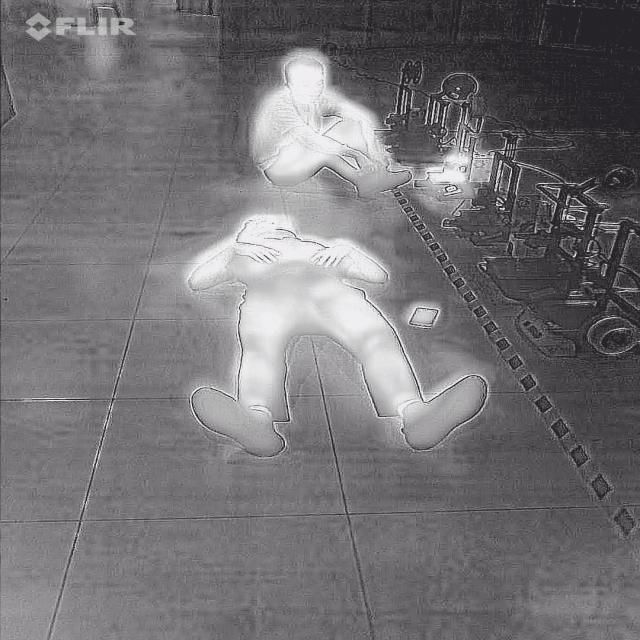Victim: (182, 208, 494, 454), (252, 49, 422, 204)
